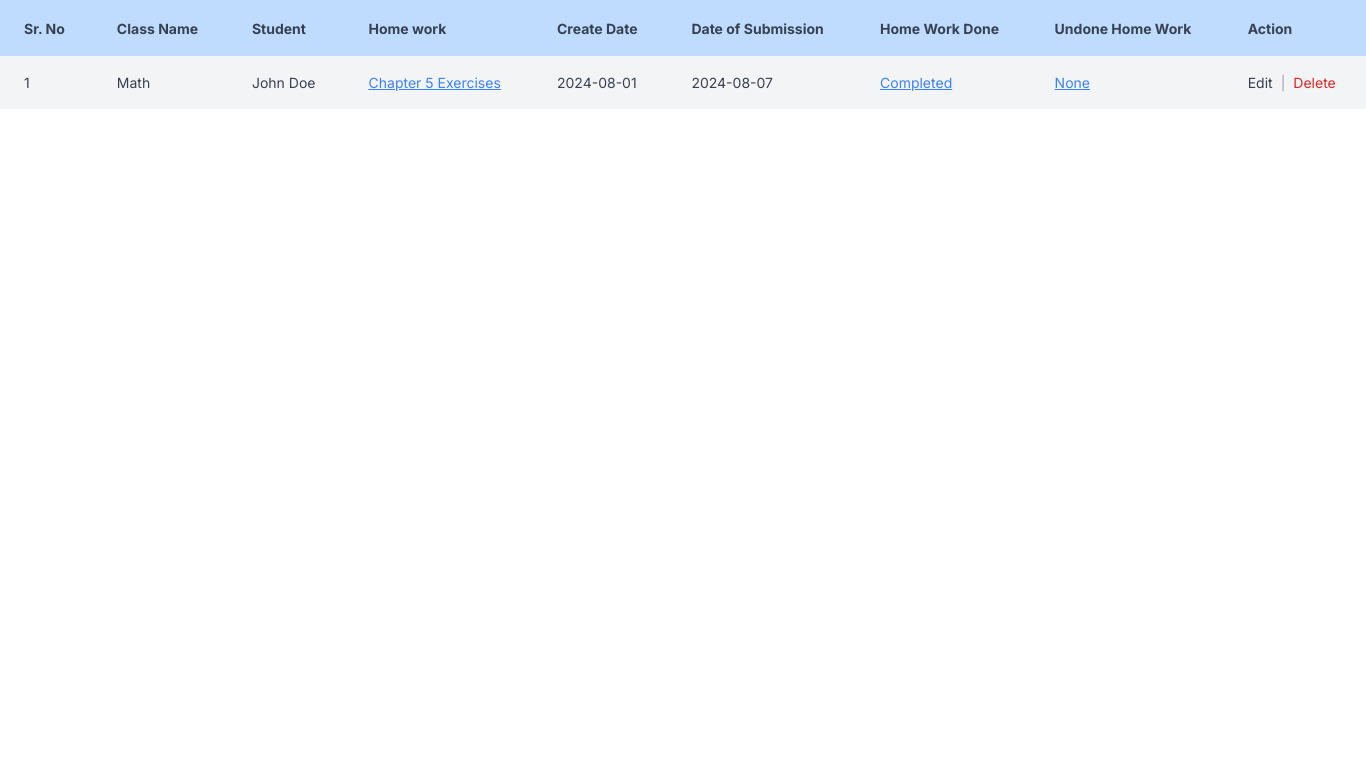
Test case: ClassesTable Component › opens delete confirmation dialog on delete button click
Click the button "Delete". click: (1314, 82)
box: [1293, 72, 1336, 93]
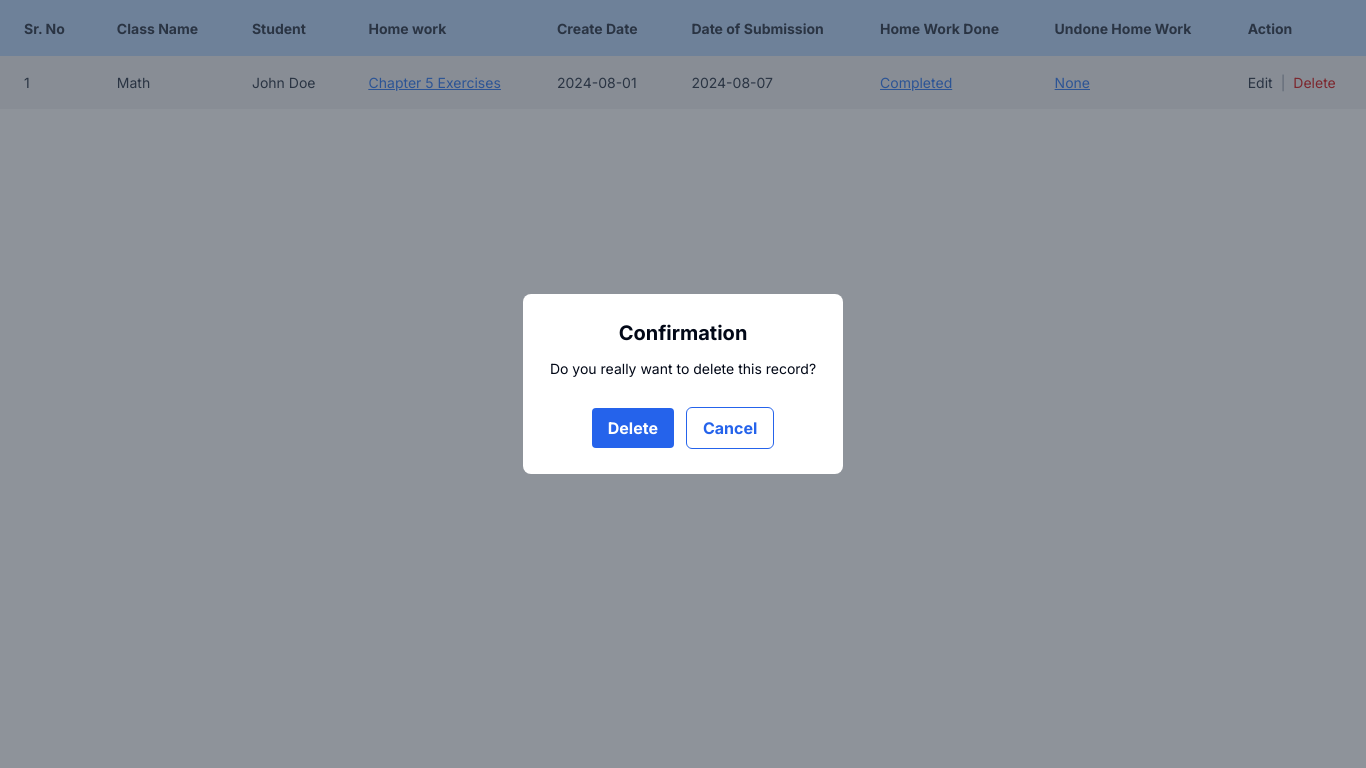
Expected: the heading "Do you really want to delete this record?" is shown, [550, 359, 816, 379]
